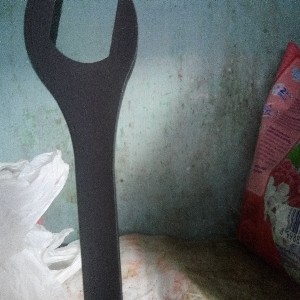spanner: (22, 1, 140, 300)
